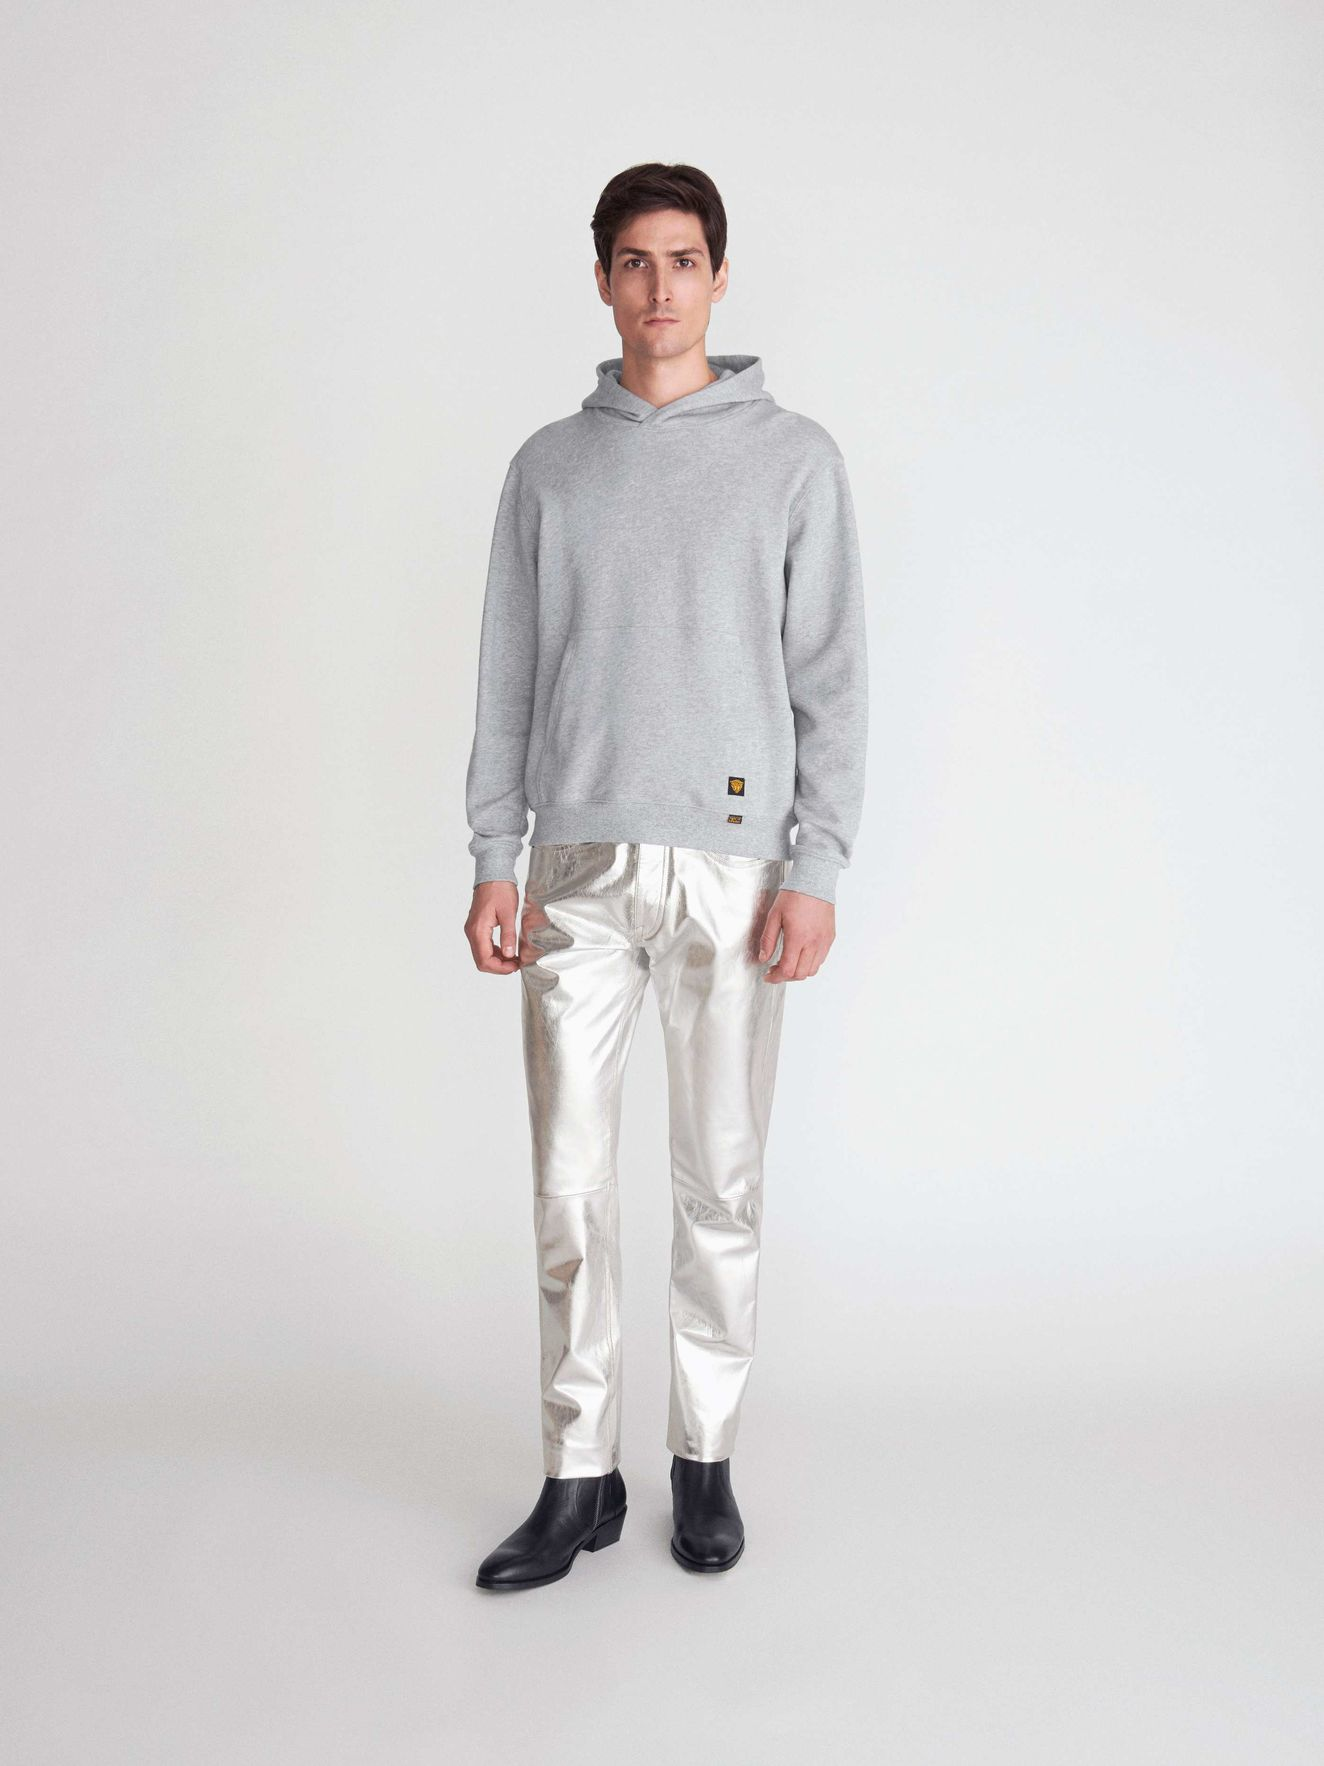jeans: (480, 832, 814, 1502)
